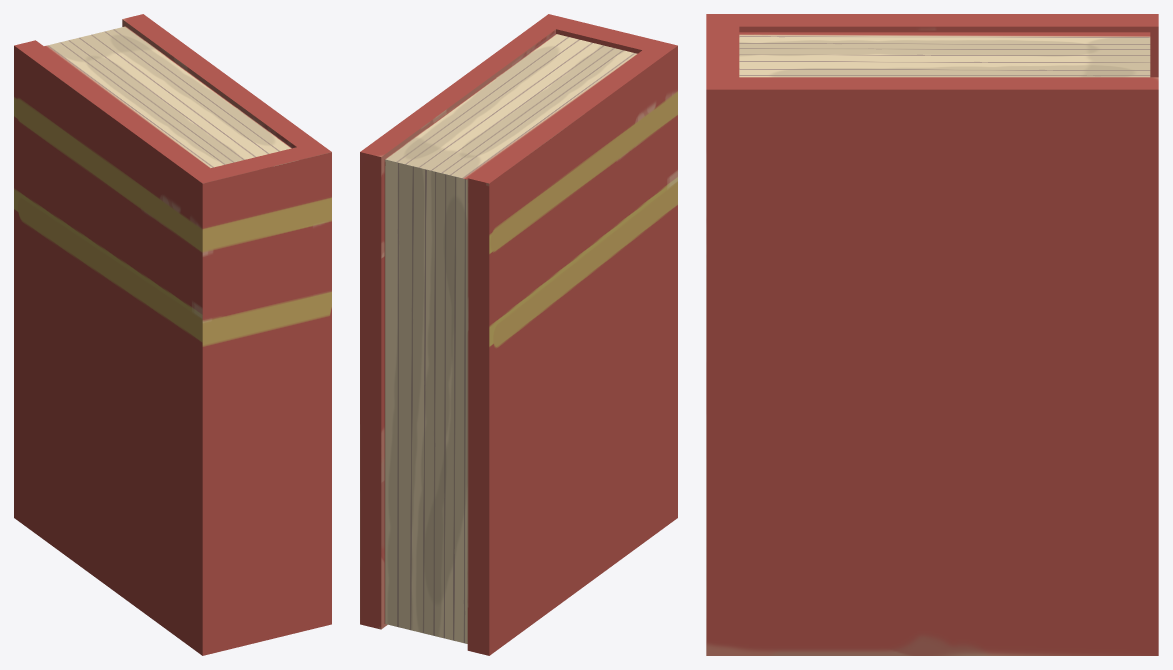
Rendered from bookbetteruv.fbx.
3 views of the same model, side by side, from view 1: azimuth 30°, elevation 25°; view 2: azimuth 150°, elevation 25°; view 3: azimuth 270°, elevation 25° (orthographic). The views are drawn at different scales.
Parts seen in each view (by area): view 1: Cube, Cube.001; view 2: Cube, Cube.001; view 3: Cube, Cube.001.
Boxes of the visible parts, x1=… form: Cube: x1=14, y1=14, x2=331, y2=655; Cube.001: x1=44, y1=26, x2=291, y2=168; Cube: x1=360, y1=14, x2=677, y2=655; Cube.001: x1=384, y1=34, x2=637, y2=643; Cube: x1=706, y1=14, x2=1158, y2=655; Cube.001: x1=739, y1=32, x2=1150, y2=77.
Bounding box in the file's own units: 94.01 × 328 × 237.
